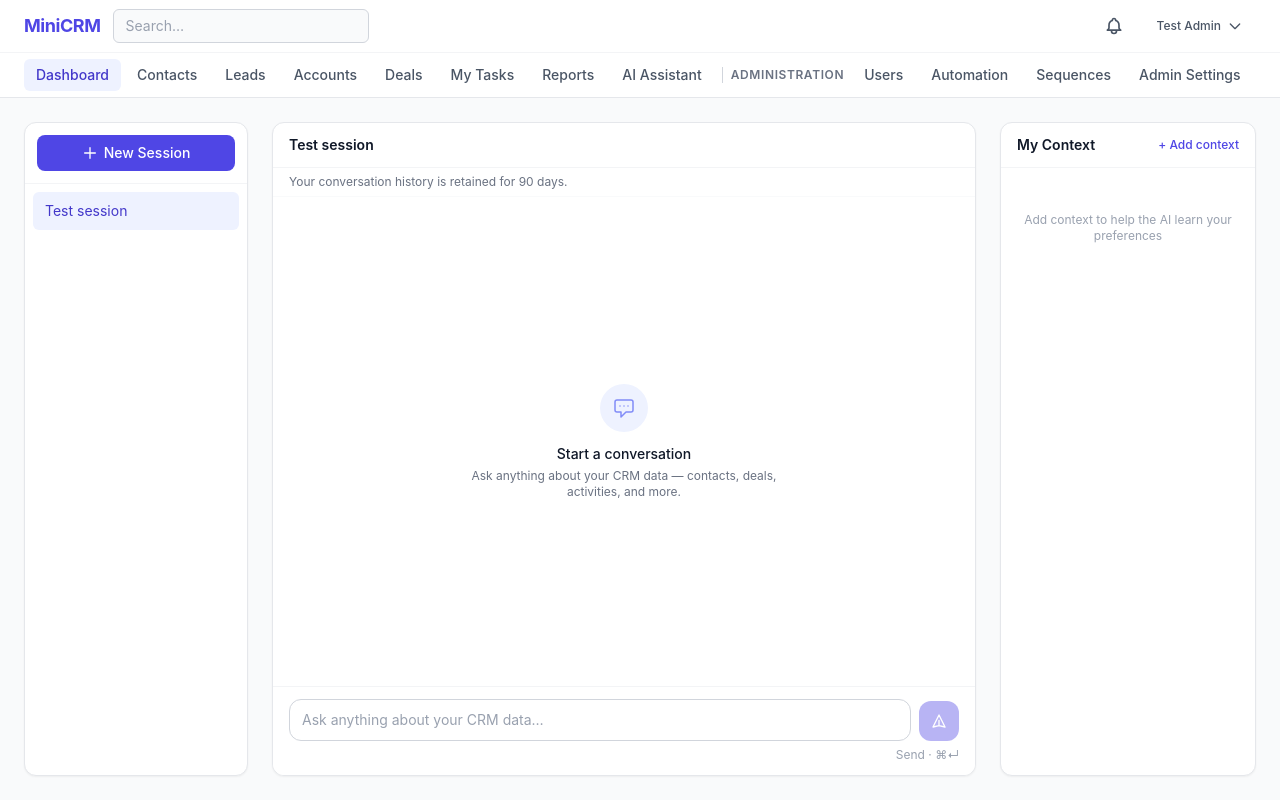
AiPage — markdown rendering › renders user messages as plain text without markdown parsing
Type "**not bold** for me" into the text box with test id "ai-message-input".
click(600, 720); type("**not bold** for me")  # box [289,699,911,741]
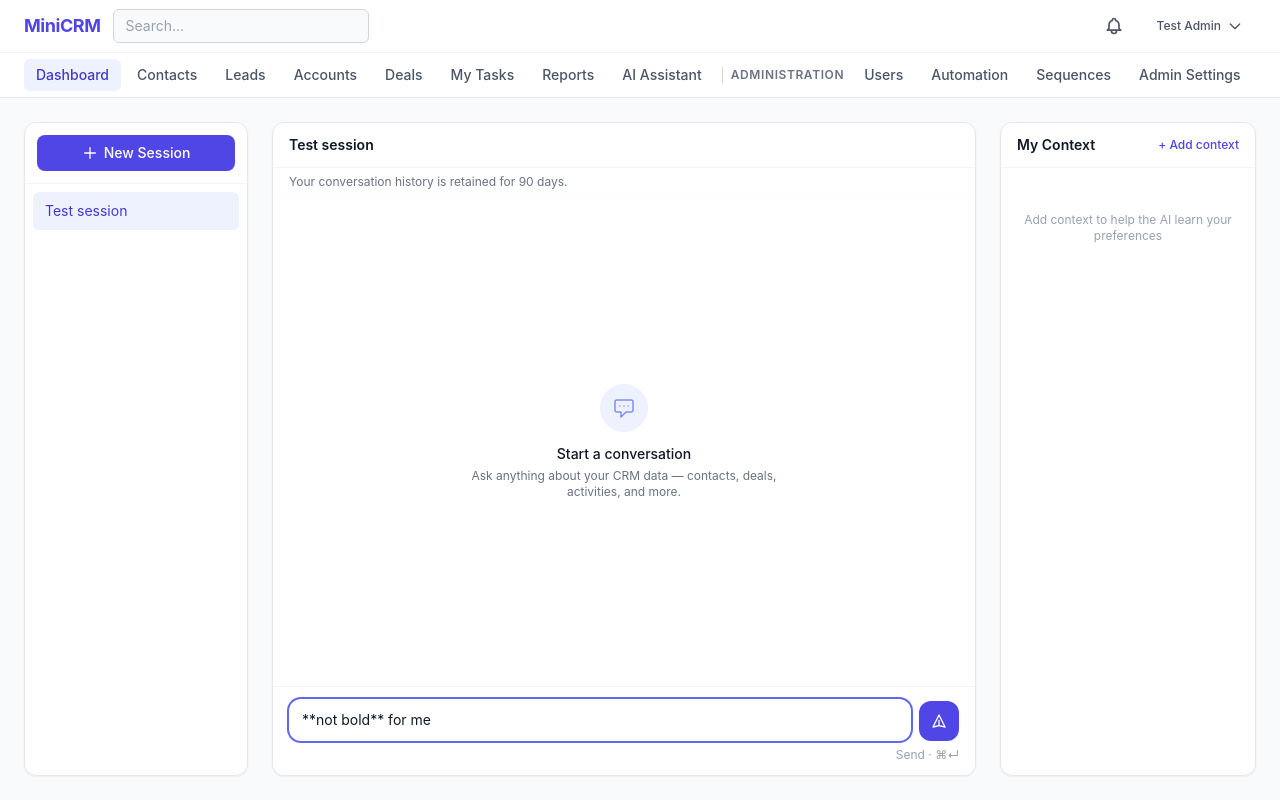
Click the button with test id "ai-send-button".
click(939, 721)  # box [919,701,959,741]
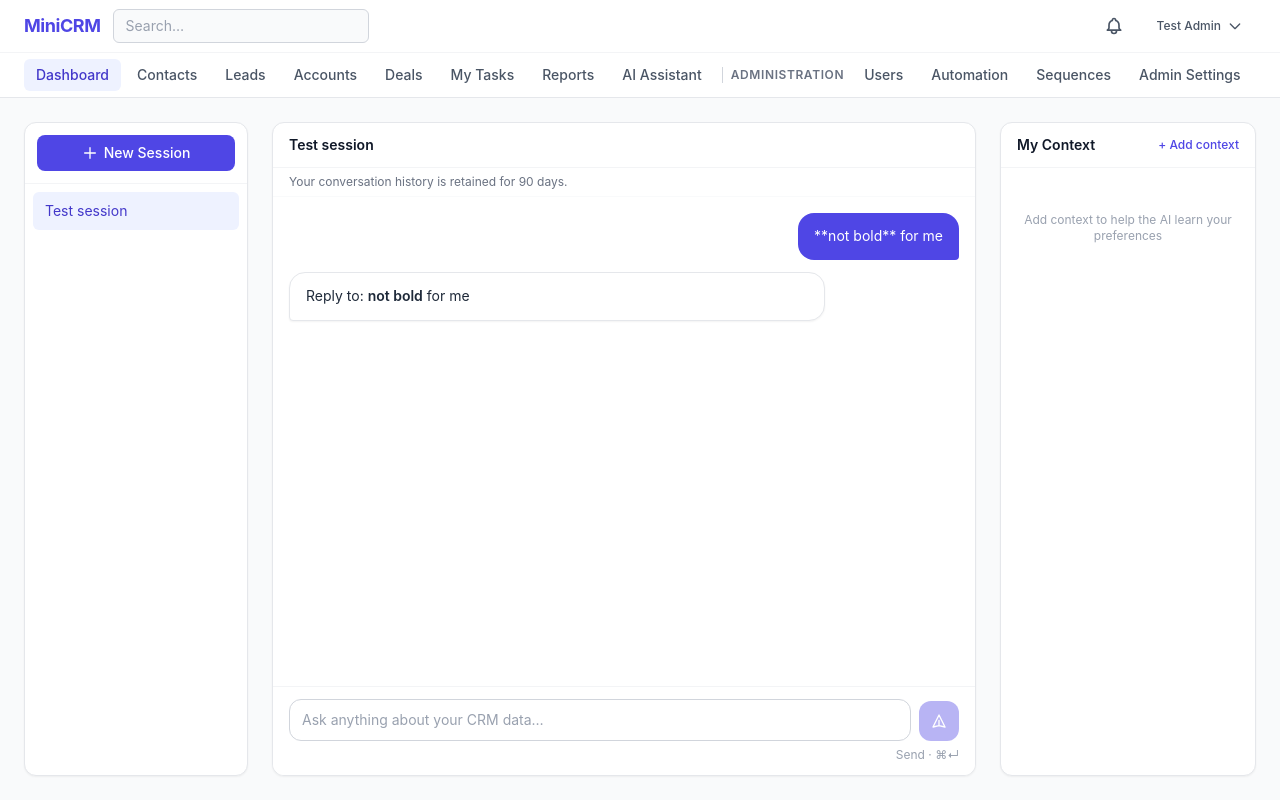
expect the text with test id "ai-message-user" reads "**not bold** for me": met, box [814,227,943,244]
